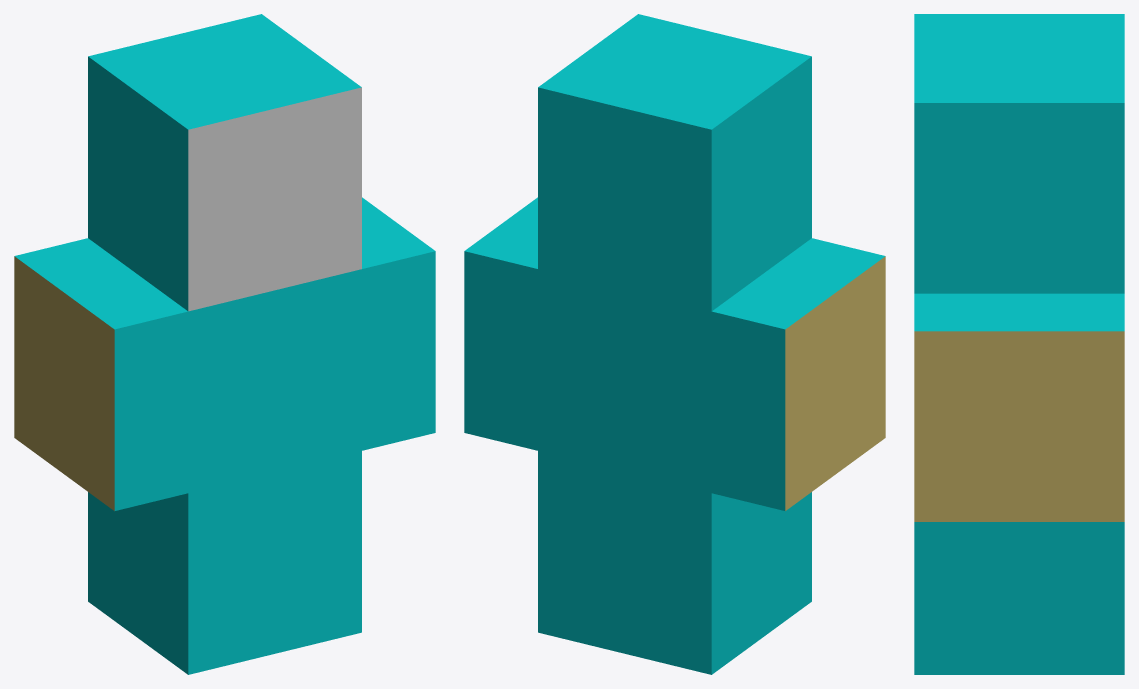
File: blue_character.fbx
The picture shows the model from 3 angles, left to right: view 1: azimuth 30°, elevation 25°; view 2: azimuth 150°, elevation 25°; view 3: azimuth 270°, elevation 25°; orthographic projection. The views are drawn at different scales.
Visible parts, largest first — view 1: Body, Head, Legs; view 2: Body, Head, Legs; view 3: Head, Body, Legs.
Part boxes in pixels (left/top/right/bottom): Body: left=14, top=197, right=435, bottom=511; Head: left=88, top=14, right=361, bottom=311; Legs: left=88, top=451, right=361, bottom=674; Body: left=464, top=197, right=885, bottom=511; Head: left=538, top=14, right=811, bottom=311; Legs: left=538, top=451, right=811, bottom=674; Head: left=914, top=14, right=1124, bottom=293; Body: left=914, top=293, right=1124, bottom=521; Legs: left=914, top=522, right=1124, bottom=674.
Bounding box in the file's own units: 370 × 600 × 200.
